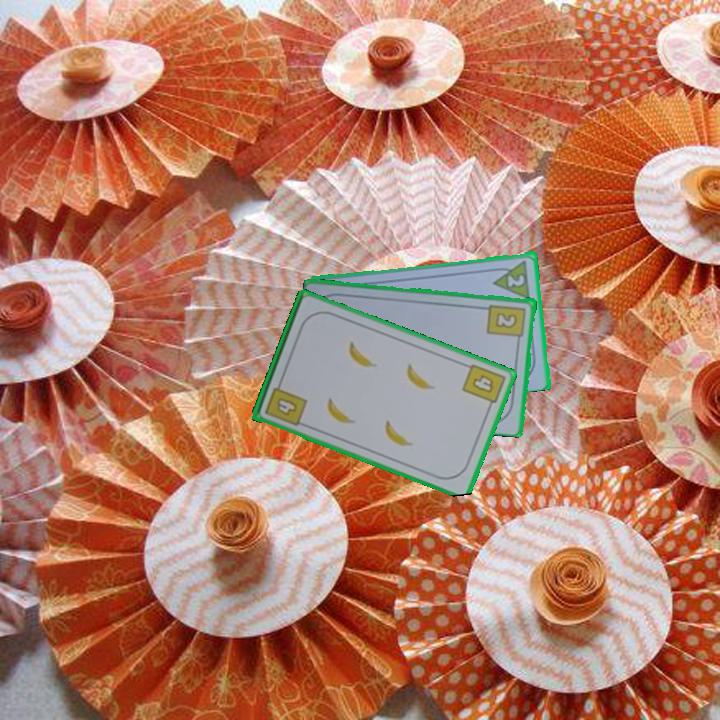2b: (485, 301, 529, 345)
2p: (504, 271, 528, 290)
4b: (459, 360, 508, 413), (261, 377, 310, 429)
